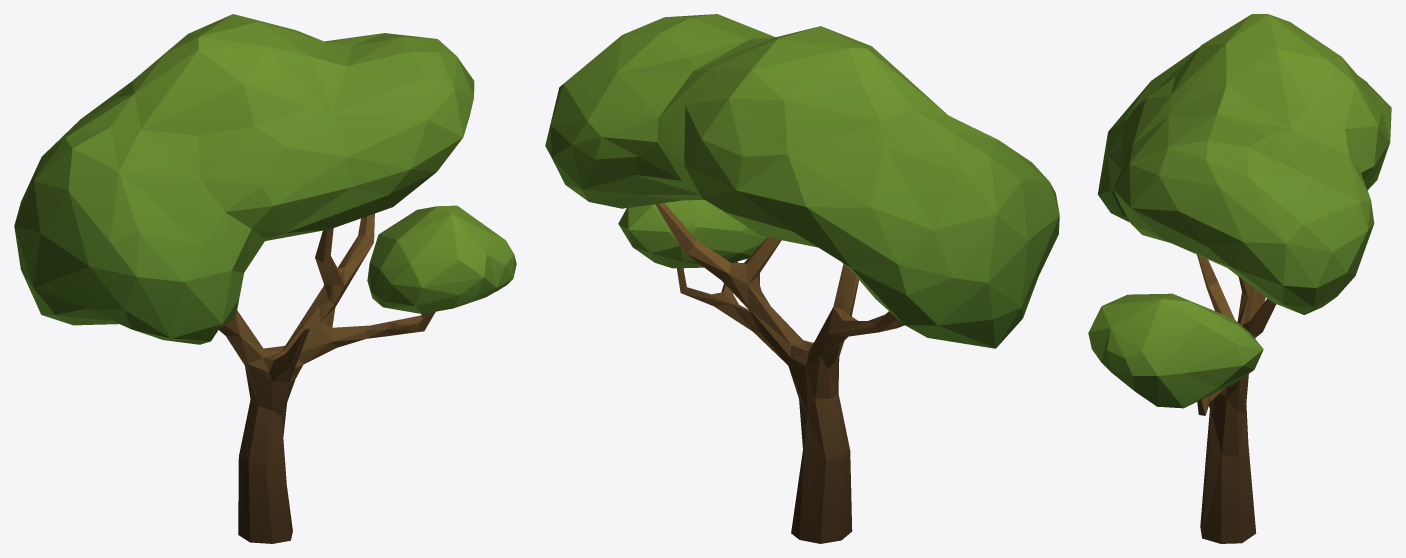
File: Tree_05.glb
3 renders of one model, left to right at view 1: azimuth 30°, elevation 25°; view 2: azimuth 150°, elevation 25°; view 3: azimuth 270°, elevation 25°, orthographic. The views are drawn at different scales.
Visible parts, largest first — view 1: Tree_05_LOD0; view 2: Tree_05_LOD0; view 3: Tree_05_LOD0.
Part boxes in pixels (x1,y1,x2,y2): Tree_05_LOD0: (14,14,516,543); Tree_05_LOD0: (545,14,1059,543); Tree_05_LOD0: (1088,14,1391,543).
Size of what is drawn, in the model's own units: 5.42 by 5.78 by 3.21.
Materials: 1 (1 with a texture image).
